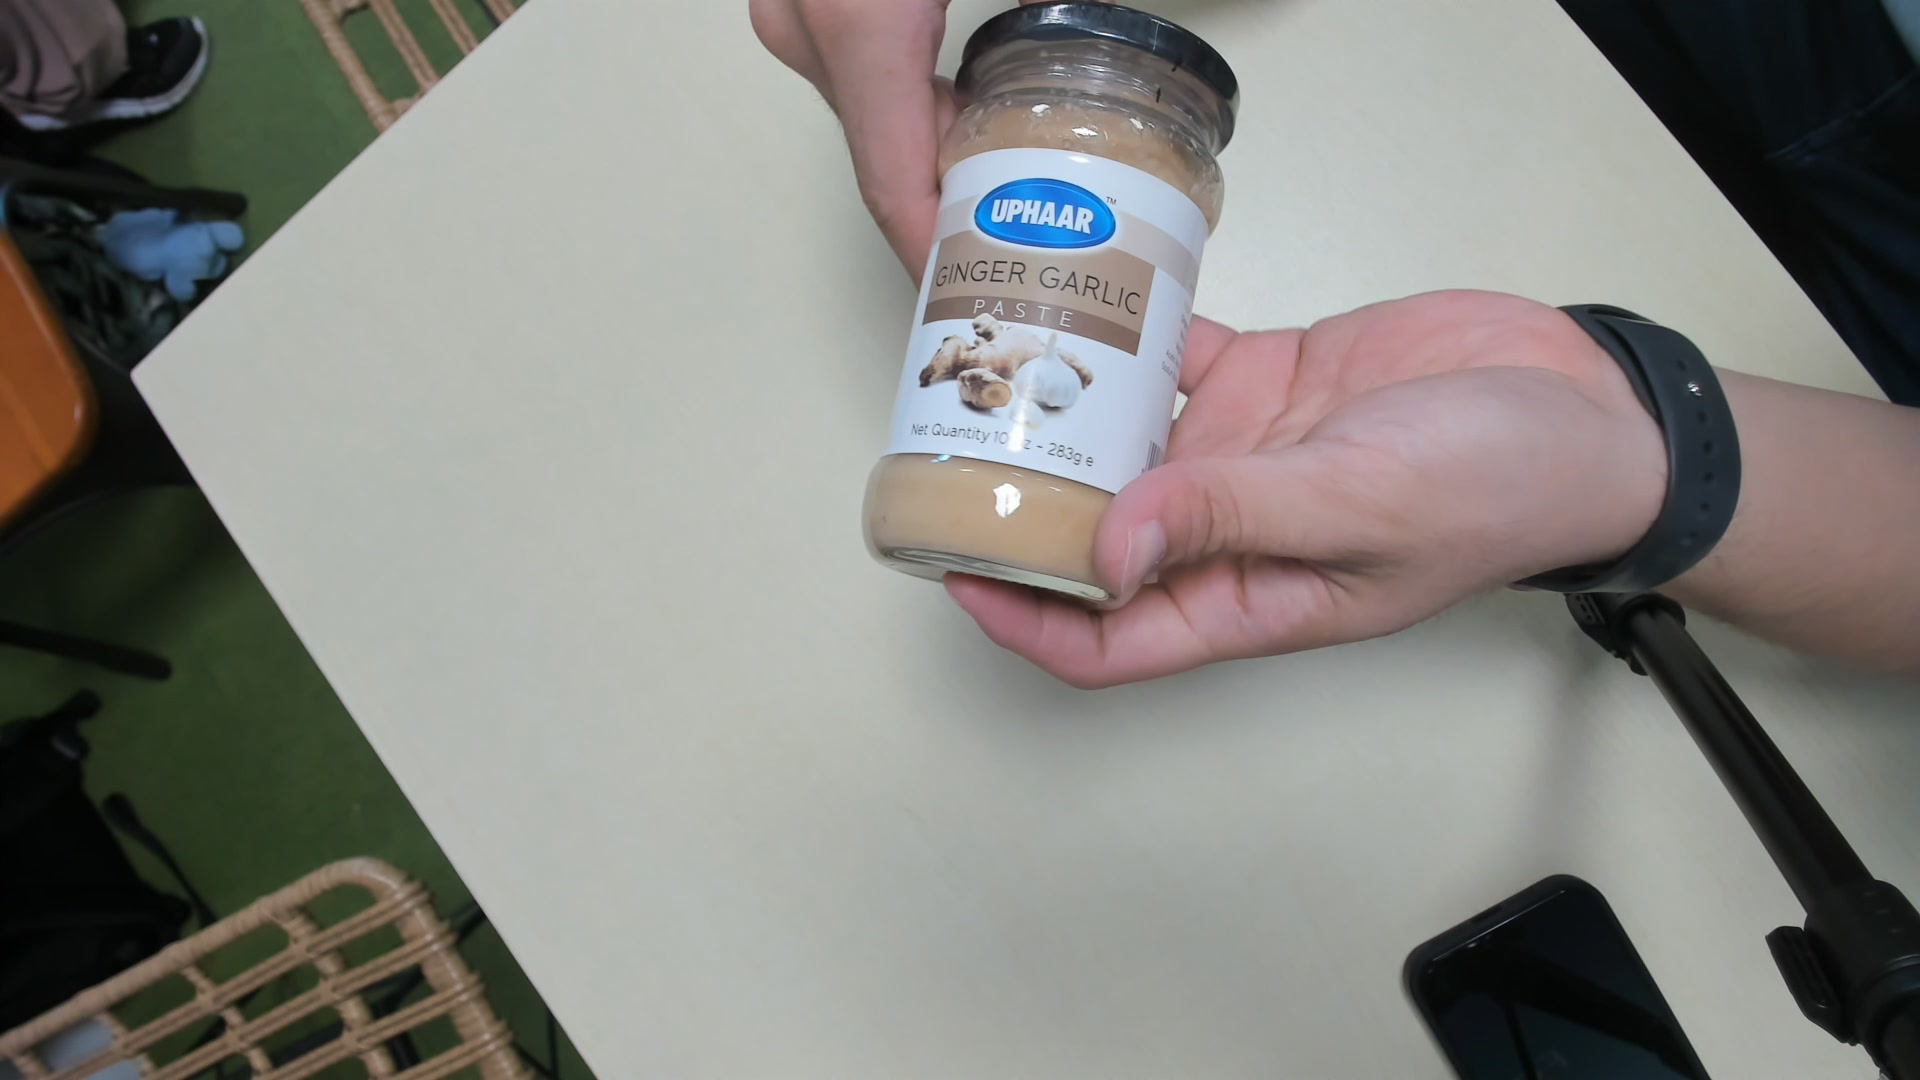OtherSauceDressing_200-299g_NonHalal_NonHealthy: (877, 5, 1238, 595)
